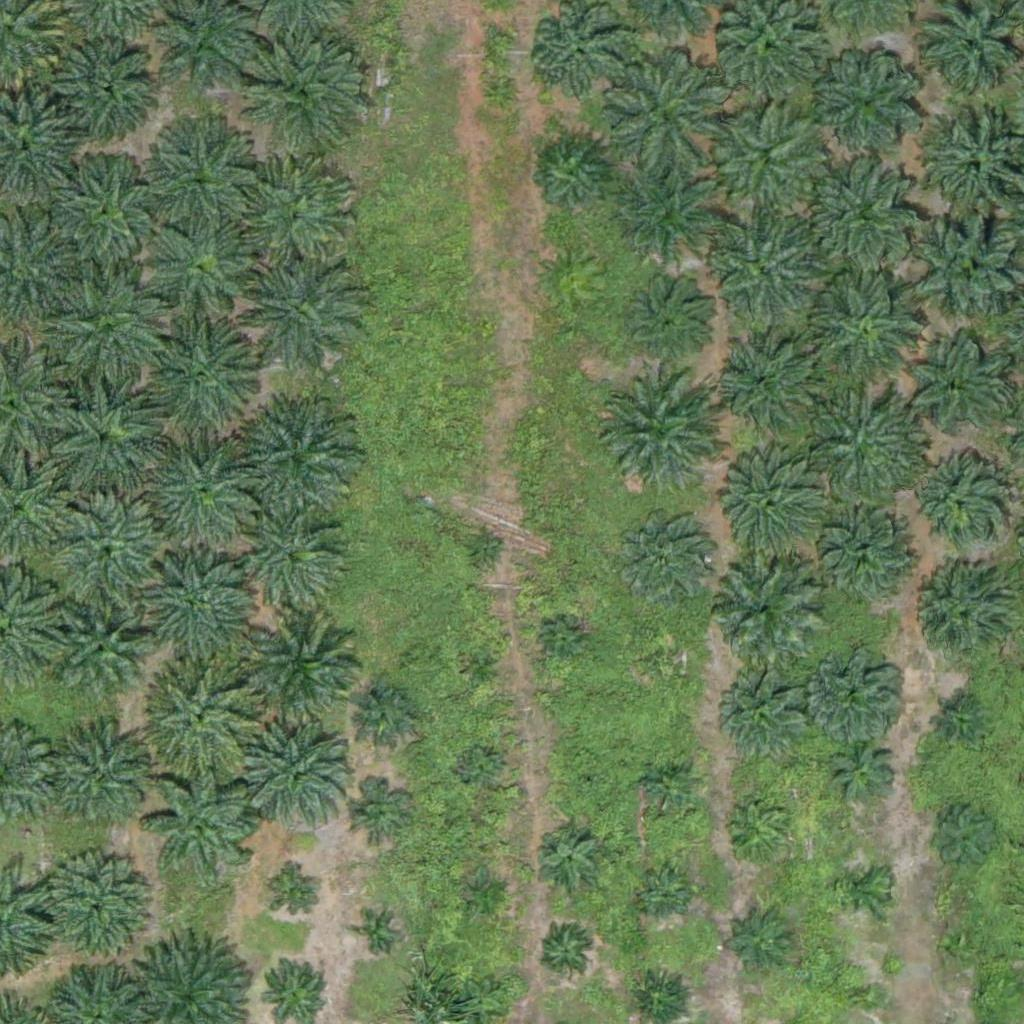Kelapa_Sawit: (238, 23, 363, 149), (600, 49, 725, 175), (139, 115, 264, 241), (46, 151, 171, 277), (233, 153, 358, 279), (43, 274, 168, 400), (37, 377, 162, 503), (45, 499, 170, 625), (132, 550, 257, 676), (140, 436, 265, 562), (135, 315, 260, 441), (237, 253, 362, 379), (233, 398, 358, 524), (244, 618, 369, 744), (593, 369, 718, 495), (805, 384, 930, 509), (813, 42, 926, 155), (704, 552, 817, 665), (808, 157, 921, 270), (808, 270, 921, 383), (906, 208, 1019, 321), (146, 765, 259, 878), (35, 851, 148, 964), (713, 108, 825, 221), (614, 159, 726, 272), (709, 215, 821, 328), (711, 448, 823, 561), (243, 725, 355, 838), (147, 660, 259, 773), (53, 34, 153, 135), (244, 513, 344, 614), (614, 508, 714, 609), (717, 336, 817, 437), (815, 508, 915, 609), (905, 336, 1005, 437), (907, 453, 1007, 554), (905, 566, 1005, 667), (810, 643, 910, 744), (51, 727, 151, 828), (529, 4, 629, 104), (151, 223, 251, 323), (55, 609, 142, 698), (626, 273, 713, 361), (723, 676, 810, 764), (535, 138, 610, 214), (924, 799, 999, 874), (345, 781, 408, 844), (355, 683, 418, 746), (729, 911, 792, 974), (638, 756, 701, 819), (535, 825, 597, 888), (831, 738, 893, 801), (729, 801, 791, 864), (272, 871, 322, 922), (837, 861, 887, 912), (542, 927, 592, 977), (636, 868, 686, 918), (944, 929, 982, 967), (460, 747, 498, 785), (464, 649, 502, 687), (465, 530, 503, 568), (467, 873, 505, 911), (942, 705, 980, 742), (650, 643, 688, 680), (546, 623, 583, 661), (358, 918, 395, 955), (855, 982, 880, 1007), (577, 773, 602, 798)
